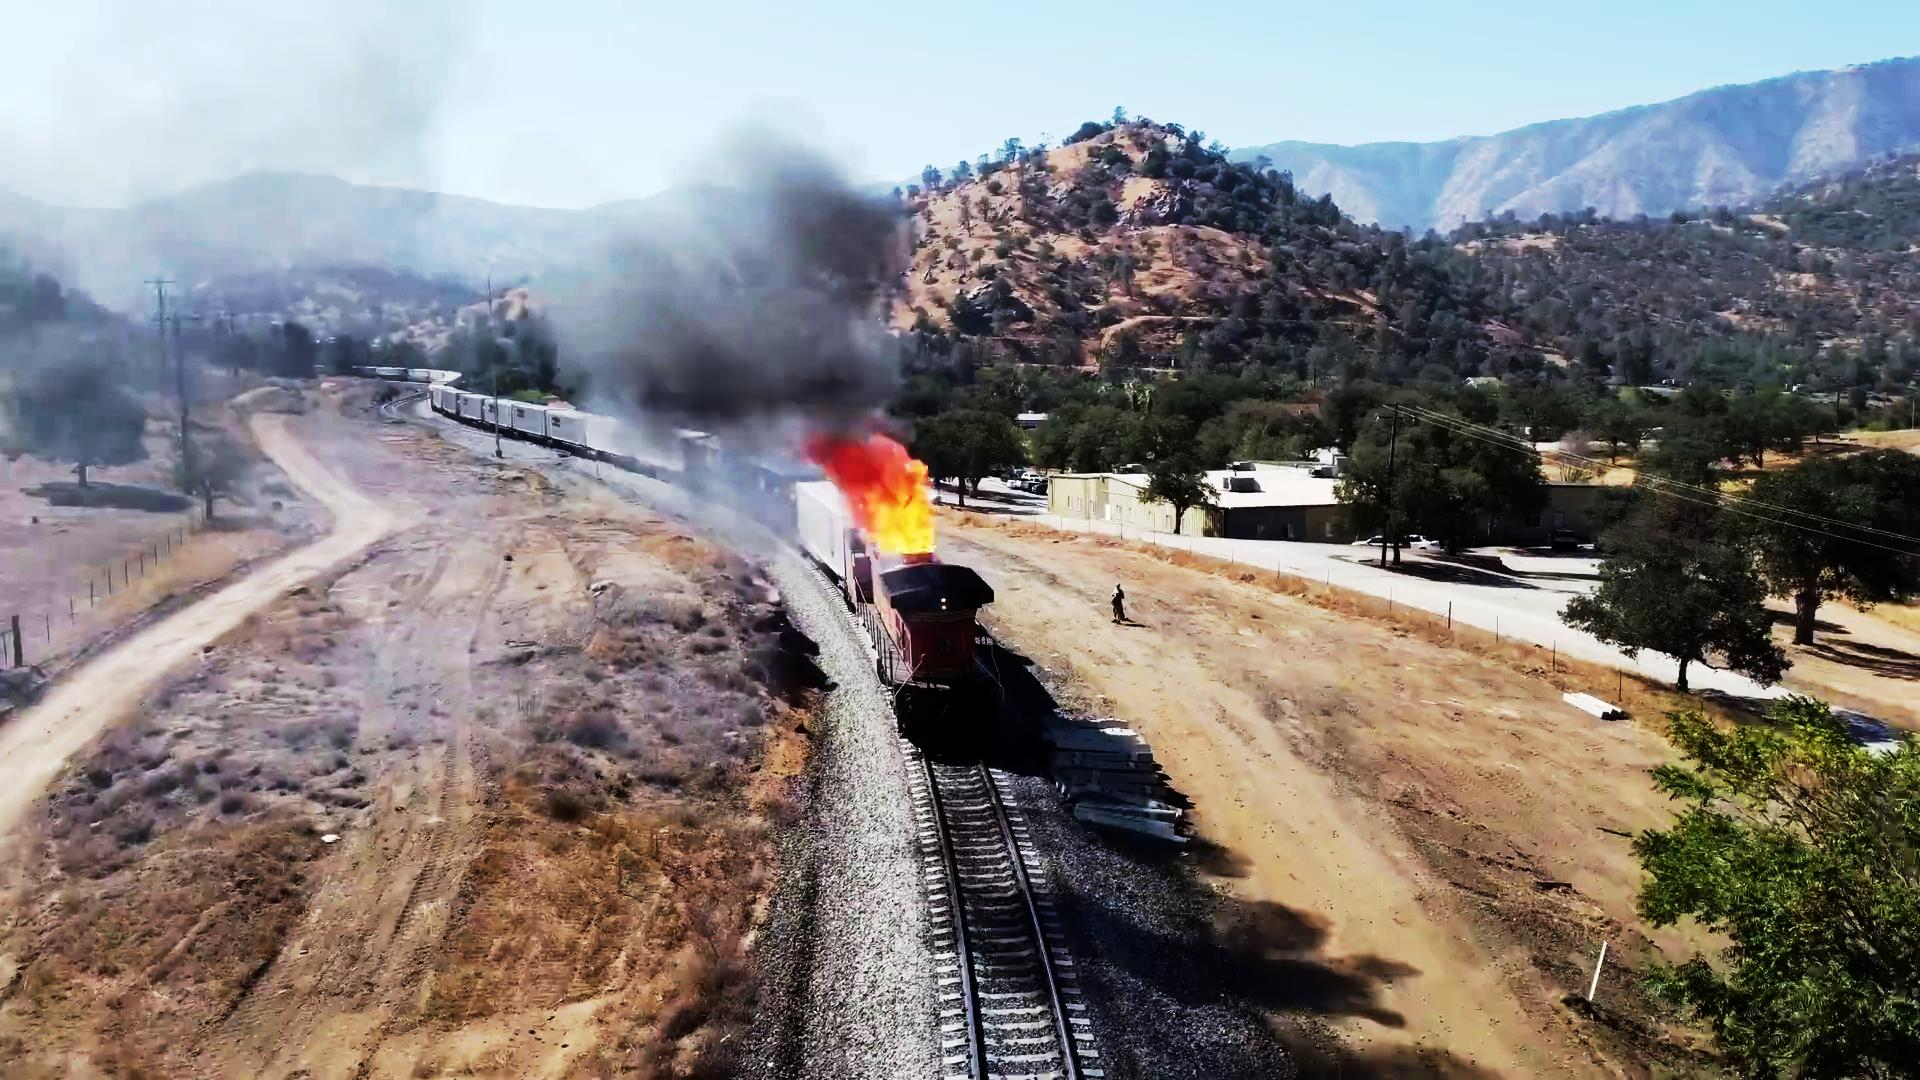fire: (845, 433, 940, 567)
smoke: (578, 131, 880, 436)
